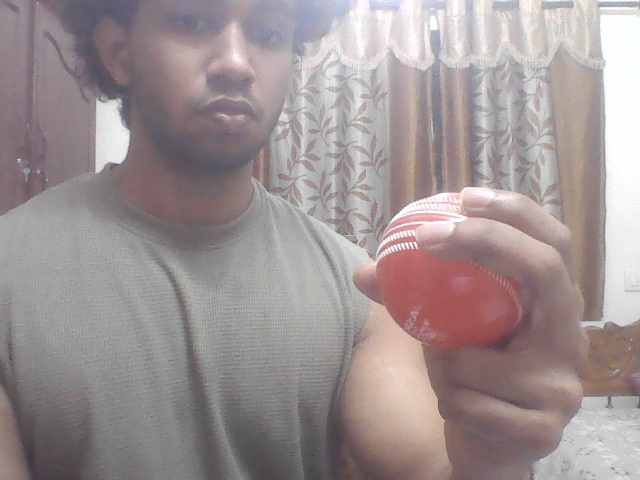cricket_ball: (375, 190, 529, 345)
